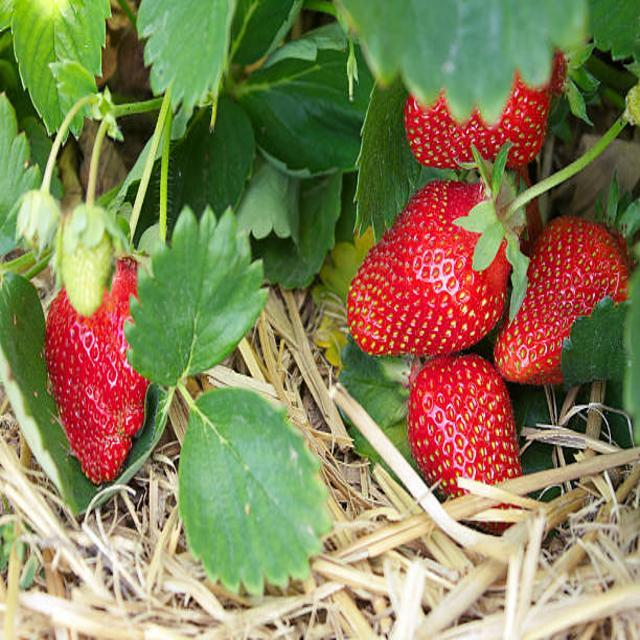Saludable: (346, 182, 516, 354), (43, 257, 152, 482), (495, 218, 634, 383), (407, 352, 523, 505), (402, 74, 550, 161)
